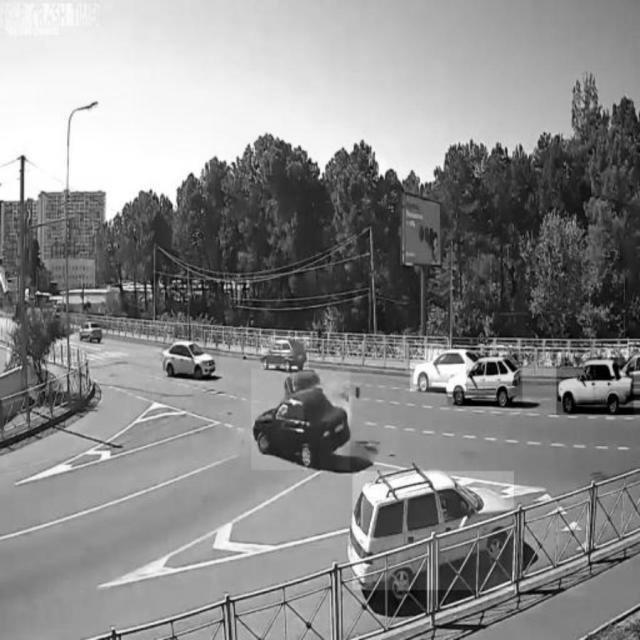accident: (252, 369, 350, 470)
vehicle: (353, 472, 513, 590), (557, 358, 634, 415), (448, 355, 522, 406), (410, 349, 466, 391), (163, 340, 220, 381), (262, 337, 309, 371), (77, 318, 105, 343)
